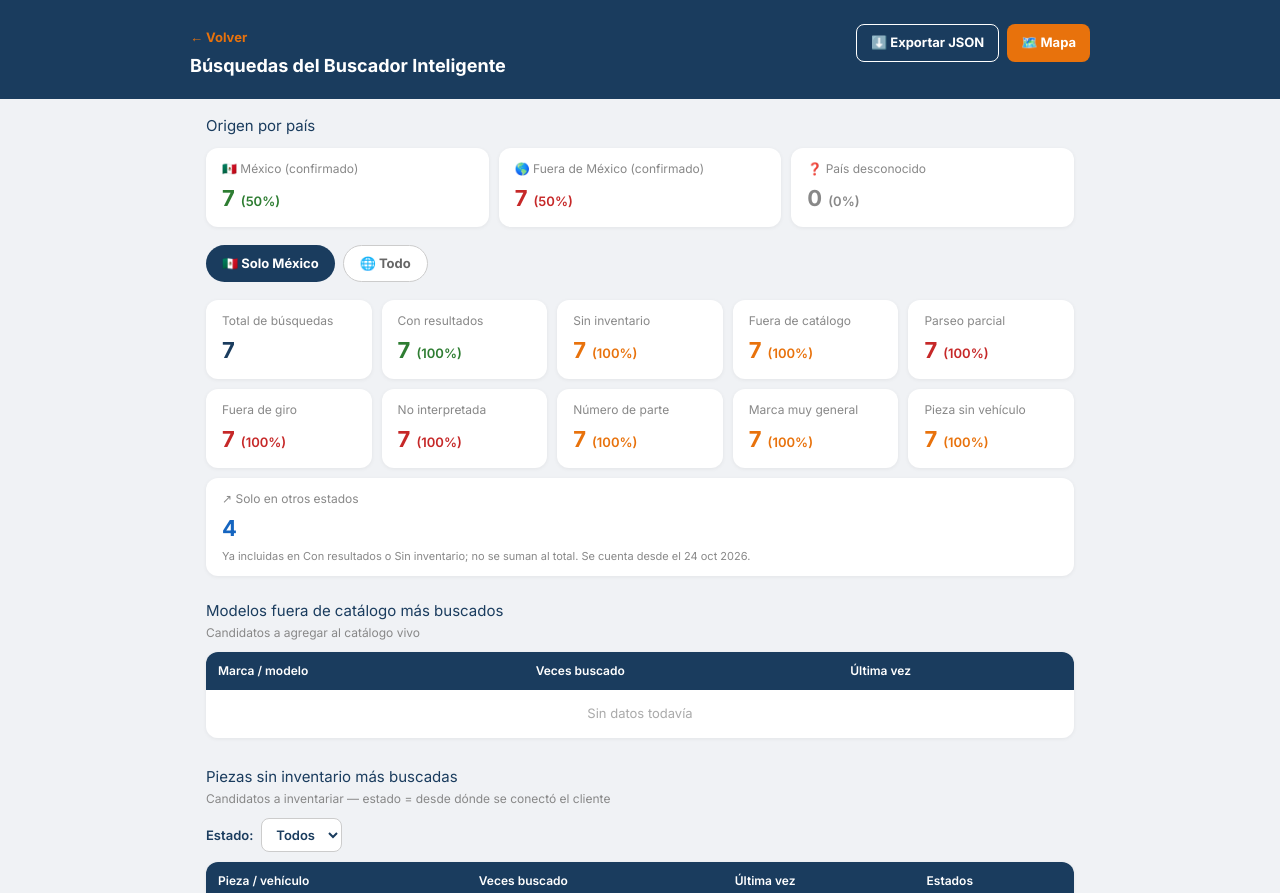
Test: tarjeta "Solo en otros estados" si su conteo falla › sin índice ("Todo"): "—" y el aviso; "Solo México" sí cuenta; lo demás sigue igual
Expected: the text "Total de búsquedas" is shown, [222, 313, 333, 328]
Expected: the text "Aún no disponible (falta índice en Firestore)" is not shown
Click the button "🌐 Todo".
click(385, 263)  # box [343, 244, 428, 282]
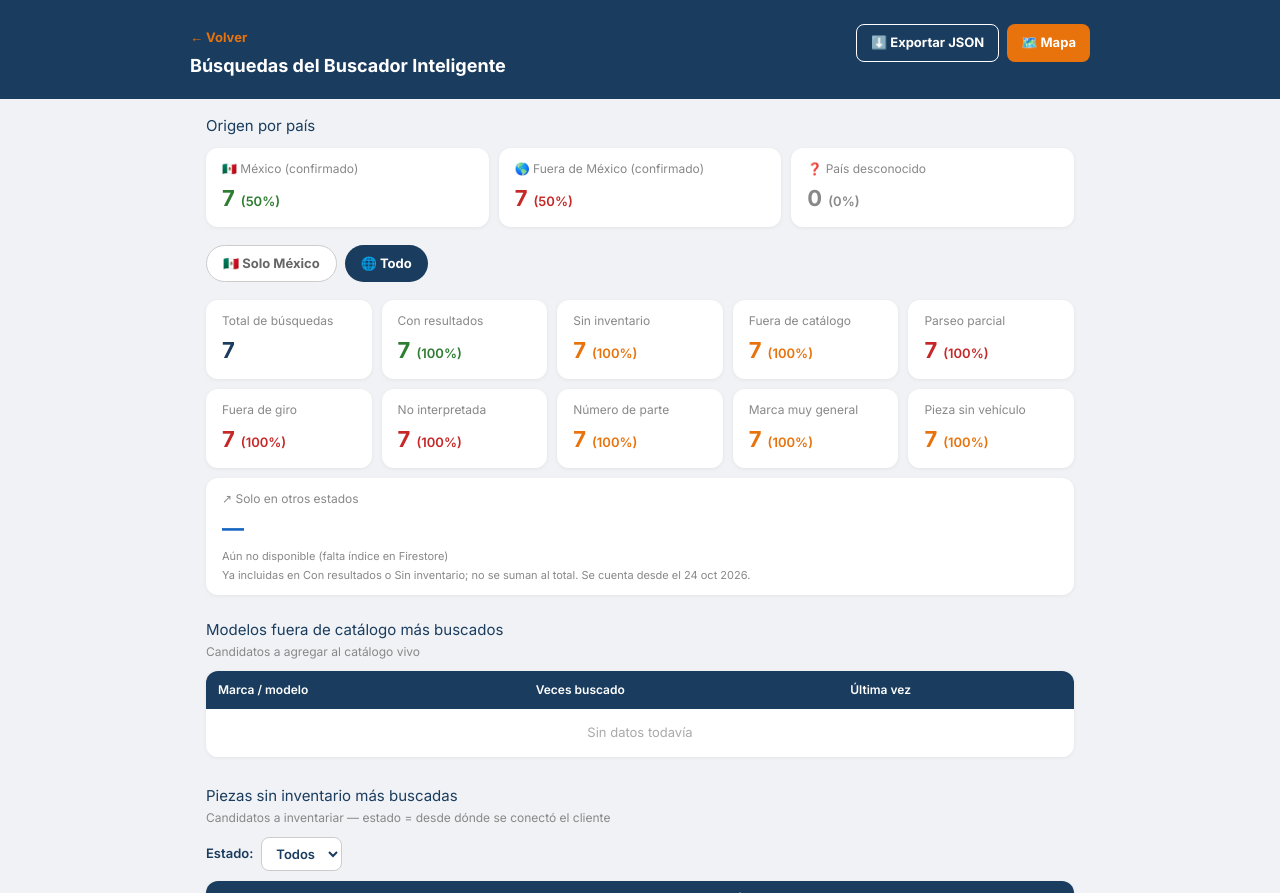
Expected: the heading "Piezas sin inventario más buscadas" is shown, [206, 786, 458, 805]
Result: the text "Aún no disponible (falta índice en Firestore)" is shown at [222, 549, 448, 563]
